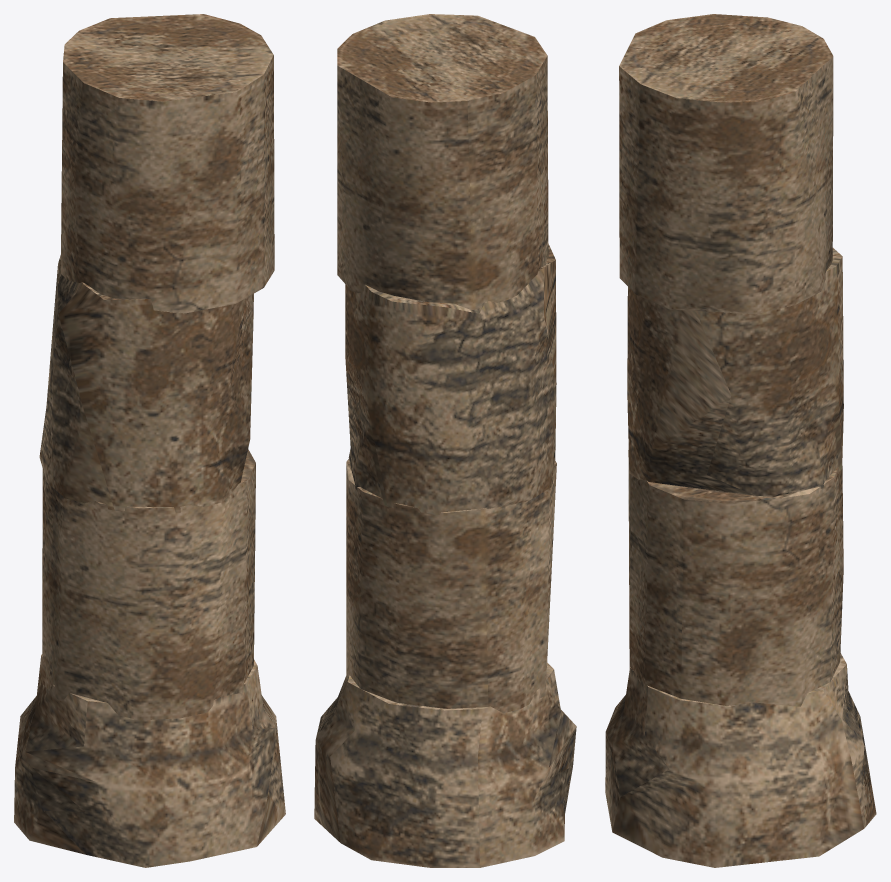
File: DruinPillarSet03.FBX
3 renders of one model, left to right at view 1: azimuth 30°, elevation 25°; view 2: azimuth 150°, elevation 25°; view 3: azimuth 270°, elevation 25°, orthographic.
Visible parts, largest first — view 1: DruinPillarSet03; view 2: DruinPillarSet03; view 3: DruinPillarSet03.
Boxes of the visible parts, <box> form: DruinPillarSet03: <box>14,14,285,867</box>; DruinPillarSet03: <box>314,14,576,867</box>; DruinPillarSet03: <box>605,14,876,867</box>.
Bounding box in the file's own units: 164 × 500 × 162.
